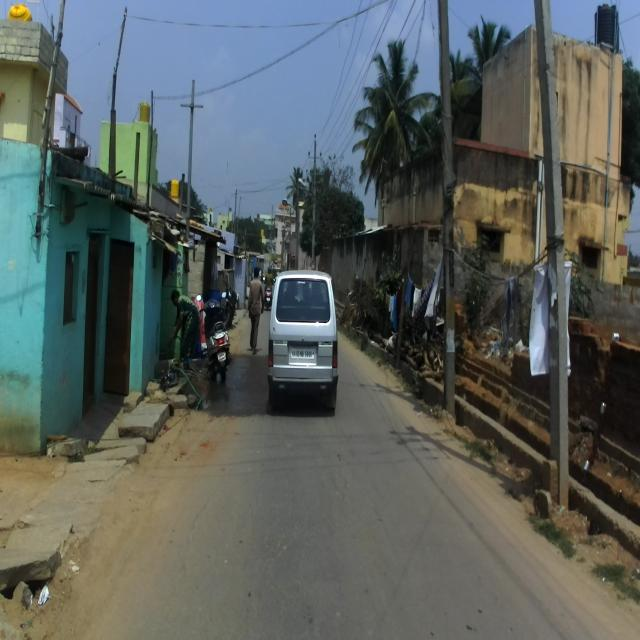car ahead at: (266, 273, 337, 411)
electric pole ahead at: (527, 5, 585, 524), (428, 0, 468, 439)
motorcycle ahead at: (200, 287, 230, 385)
